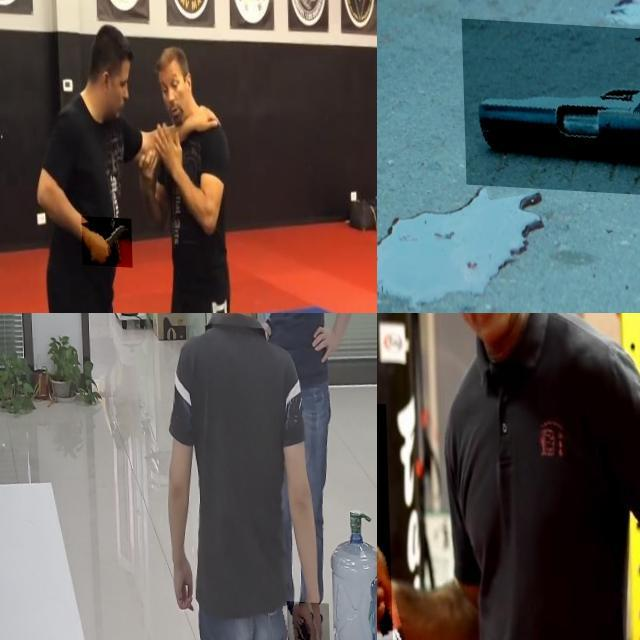-: (377, 396, 426, 640), (79, 212, 130, 263)
gun-knife-thesis - v11 Yolov5 augmented: (459, 16, 640, 196), (284, 596, 328, 640)
